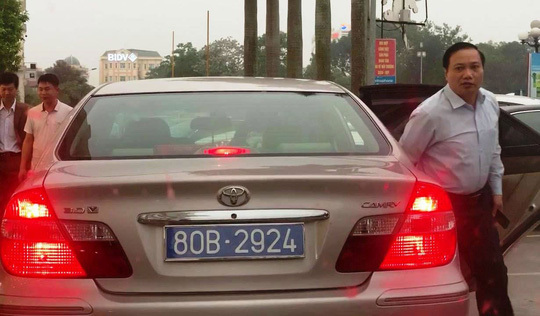plate: (163, 223, 304, 257)
